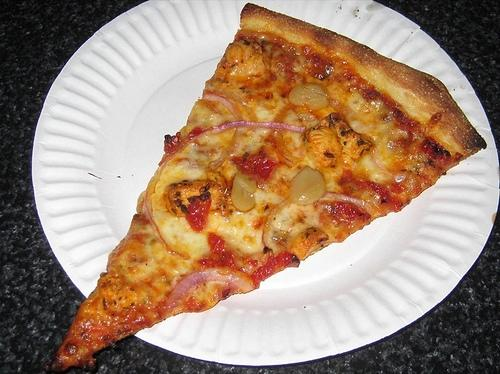mushroom: (289, 166, 326, 204), (288, 83, 330, 110), (230, 174, 258, 212)
onion: (144, 120, 305, 257), (262, 192, 373, 249), (165, 270, 254, 313), (209, 127, 242, 170), (204, 92, 238, 121)
